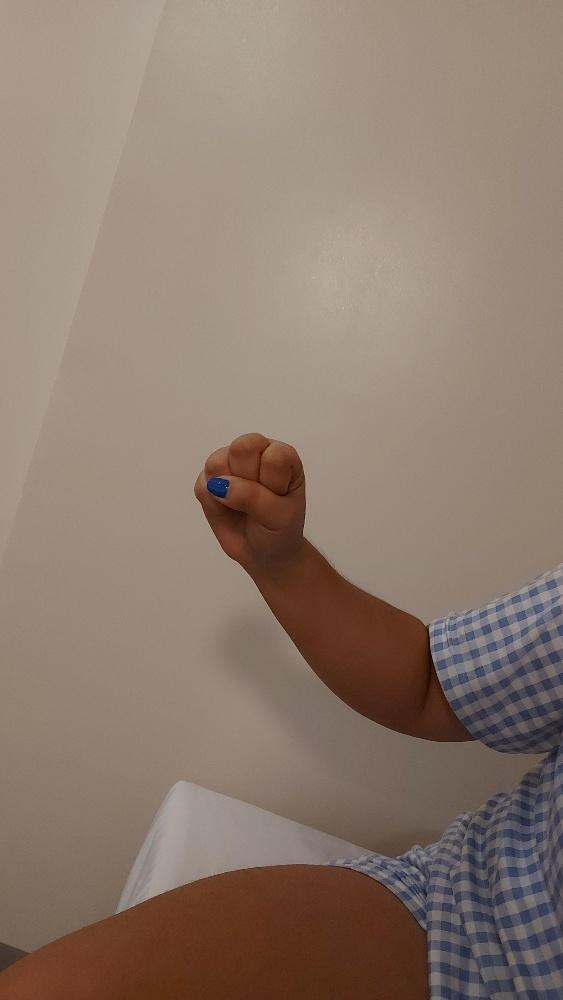s: (191, 429, 307, 564)
